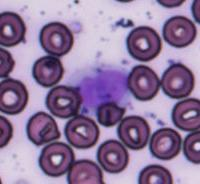M: (74, 62, 130, 108)
